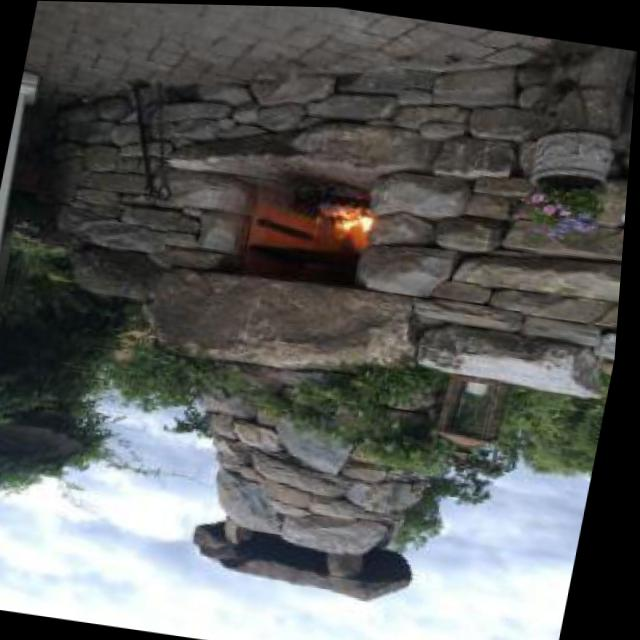Fire: (318, 202, 393, 260)
